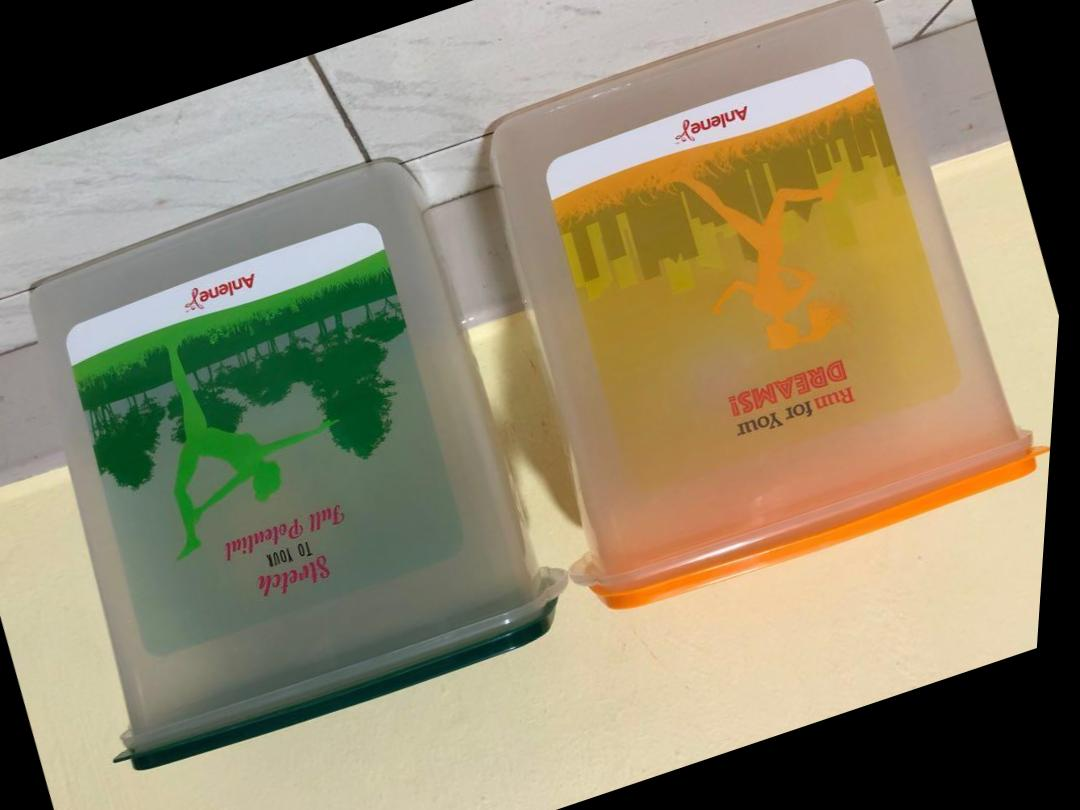plastic: (0, 160, 566, 807), (492, 2, 1048, 607)
